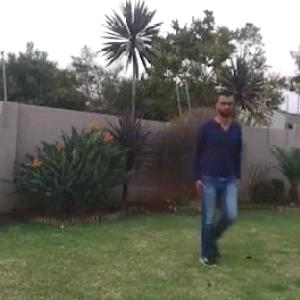follow: (193, 90, 240, 252)
